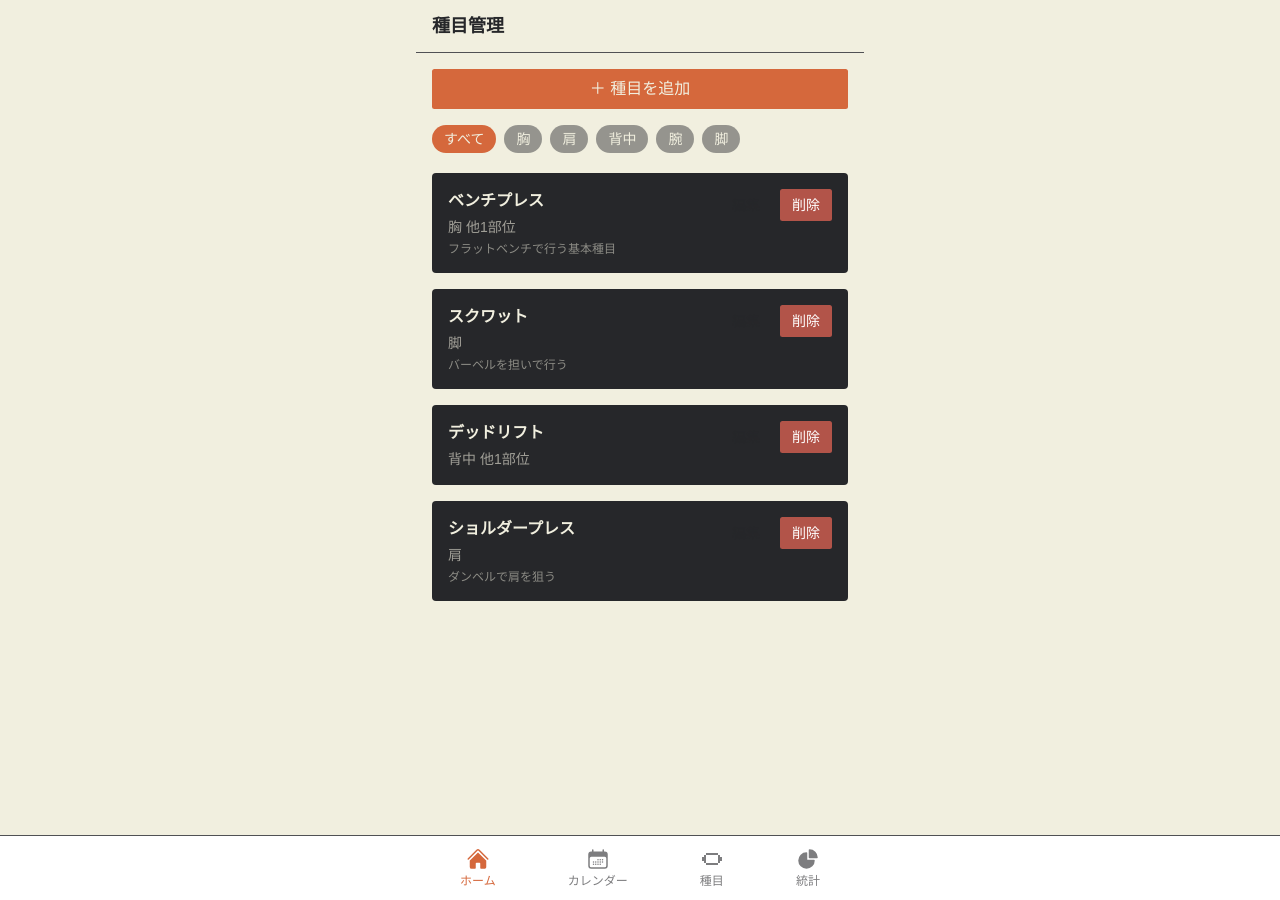
Test: ExercisesPage › 部位タブで種目を絞り込む（サブ部位でもヒット）
Expected: the text "ベンチプレス" is shown, [448,192,544,209]
// 「脚」タブ → 脚を持つ種目だけ。デッドリフトは脚がサブ部位でもヒットする。
Click the button "脚".
click(722, 139)  # box [702,125,740,153]
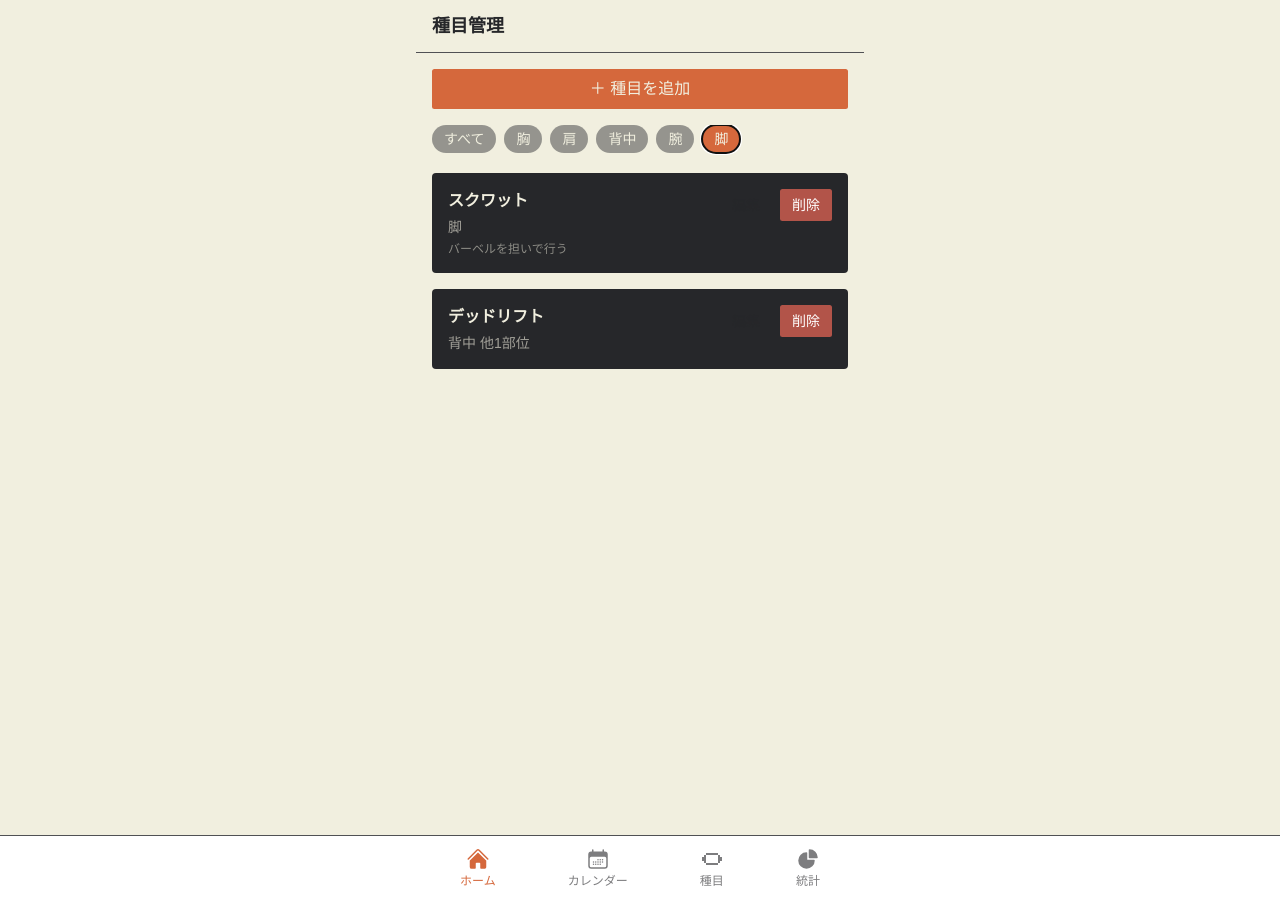
Expected: the text "スクワット" is shown, [448,192,528,209]
Expected: the text "ベンチプレス" is gone
Expected: the text "ショルダープレス" is gone
// 「すべて」で元に戻る。
Click the button "すべて".
click(464, 139)  # box [432,125,496,153]
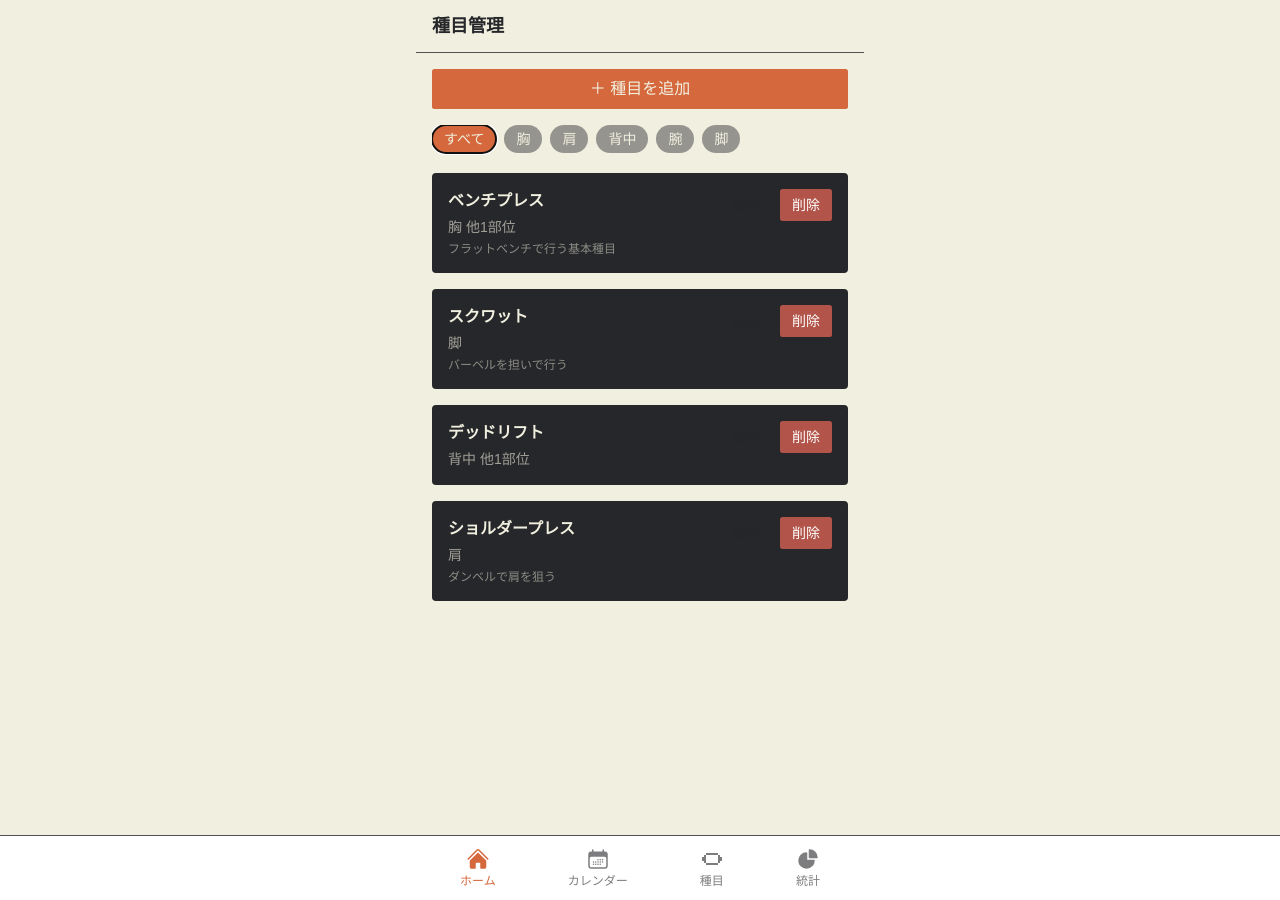
Expected: the text "ベンチプレス" is shown, [448,192,544,209]
